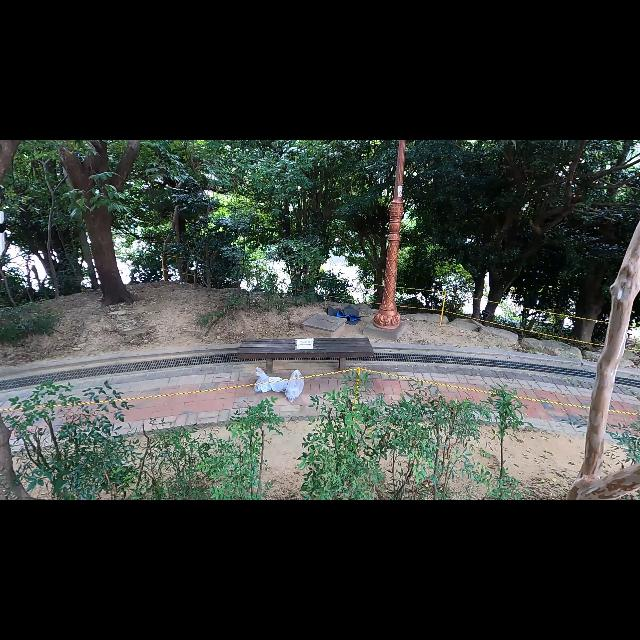trash: (278, 364, 310, 404), (324, 301, 366, 327), (258, 371, 290, 394), (252, 368, 274, 394)
